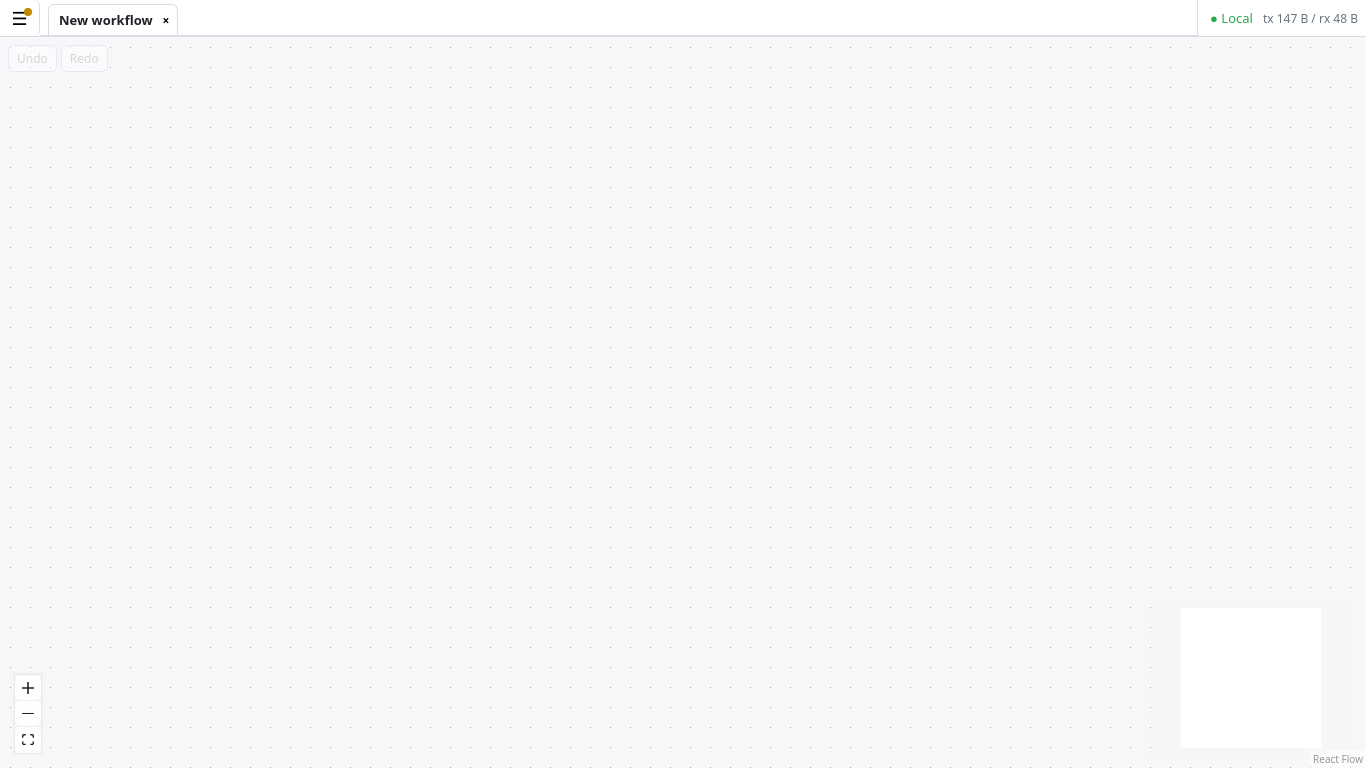
Scenario: напоминание о выгрузке (T101, US3 #2) › после «Позже» при поддержке папок показывается напоминание о выгрузке в файл
This screenshot has width=1366, height=768.
Expected: the text "Choose a working folder" is not shown
Click the button named "Menu" at (20, 18), box [0,0,40,36]
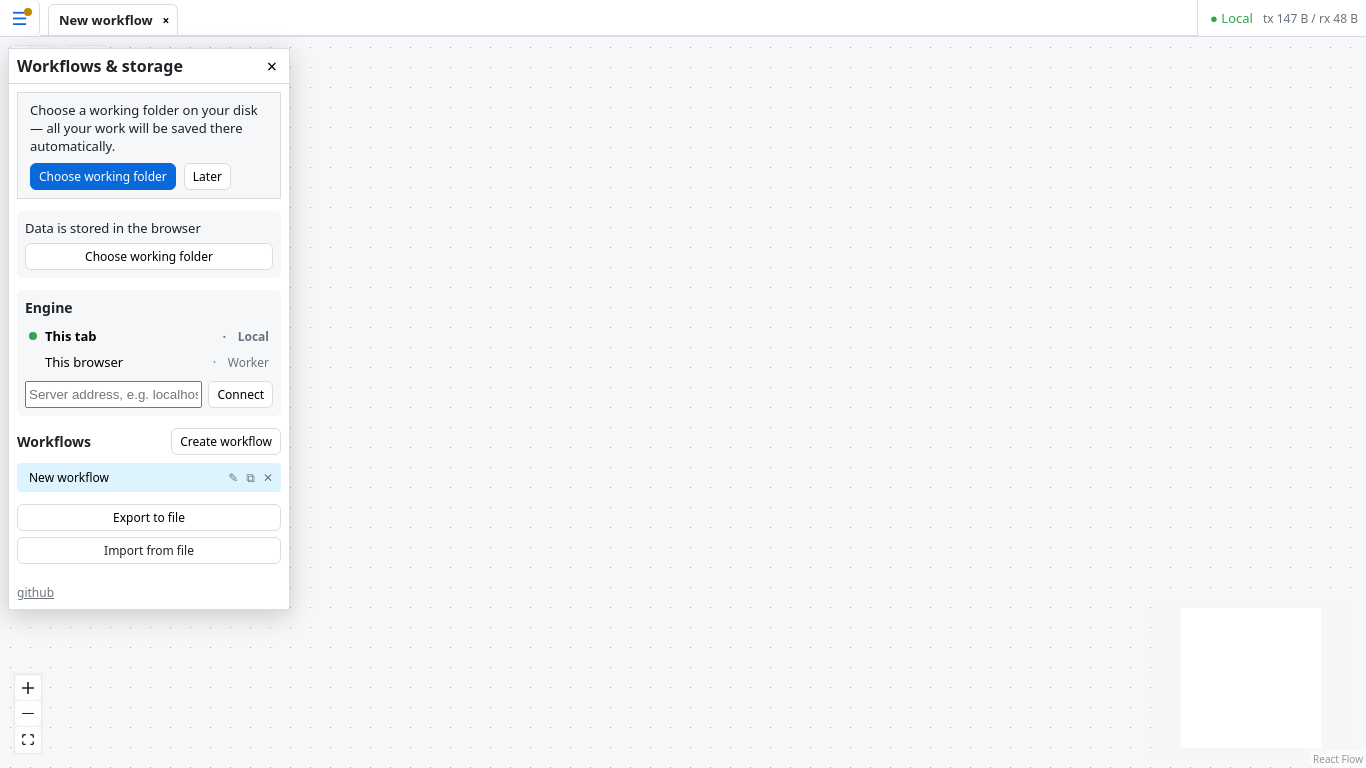
Expected: the text "Choose a working folder" is shown, [30,101,258,155]
Click the button "Later" at (207, 176), box [184,163,231,190]
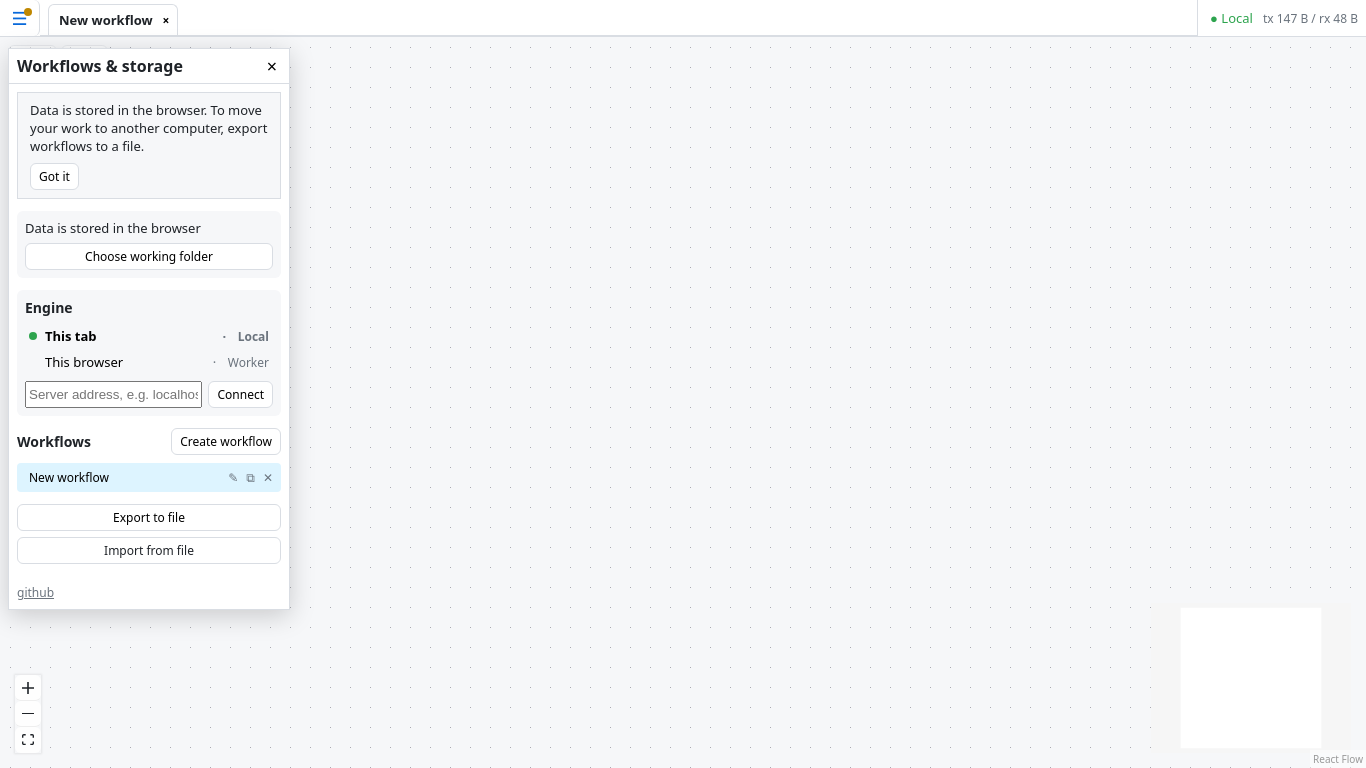
Expected: the text "export workflows to a file" is shown, [30,101,267,155]
Click the button named "Menu" at (20, 18), box [0,0,40,36]
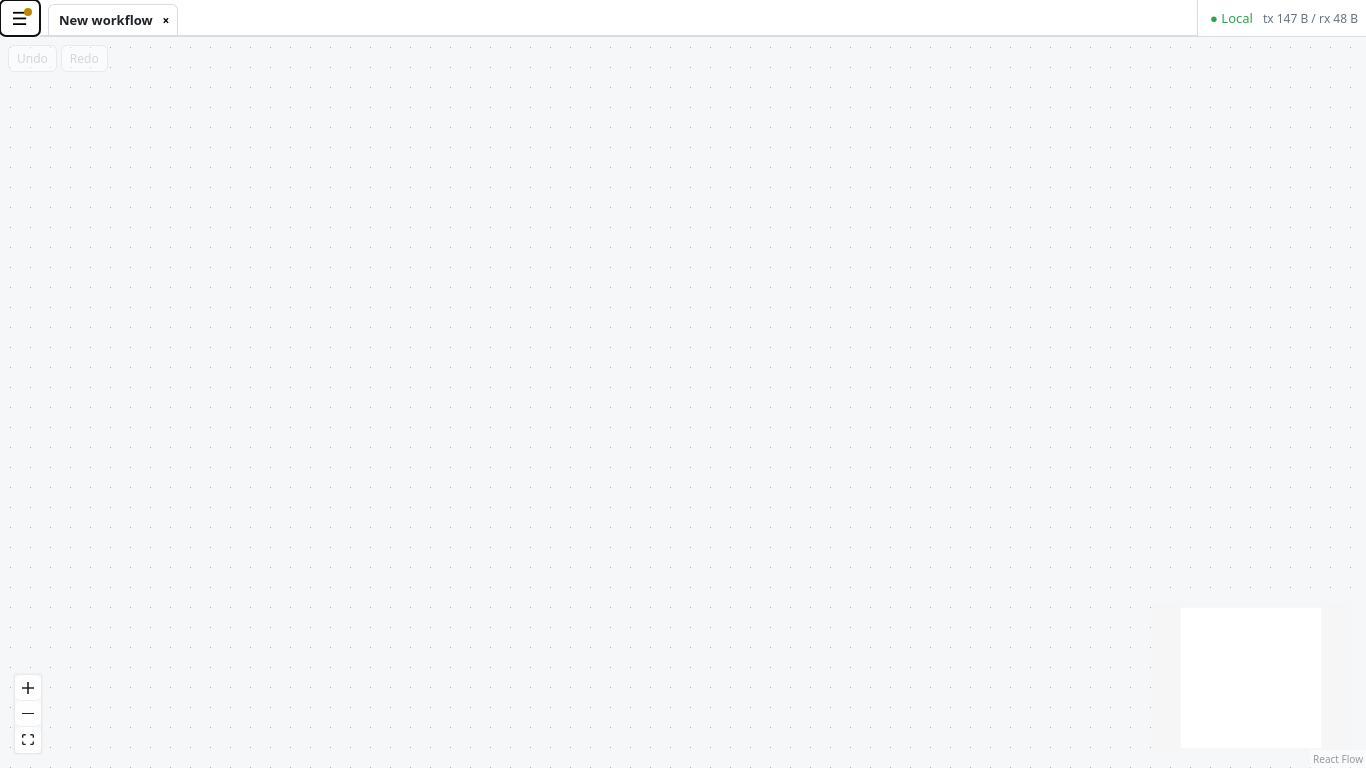
Click the button named "Menu" at (20, 18), box [0,0,40,36]
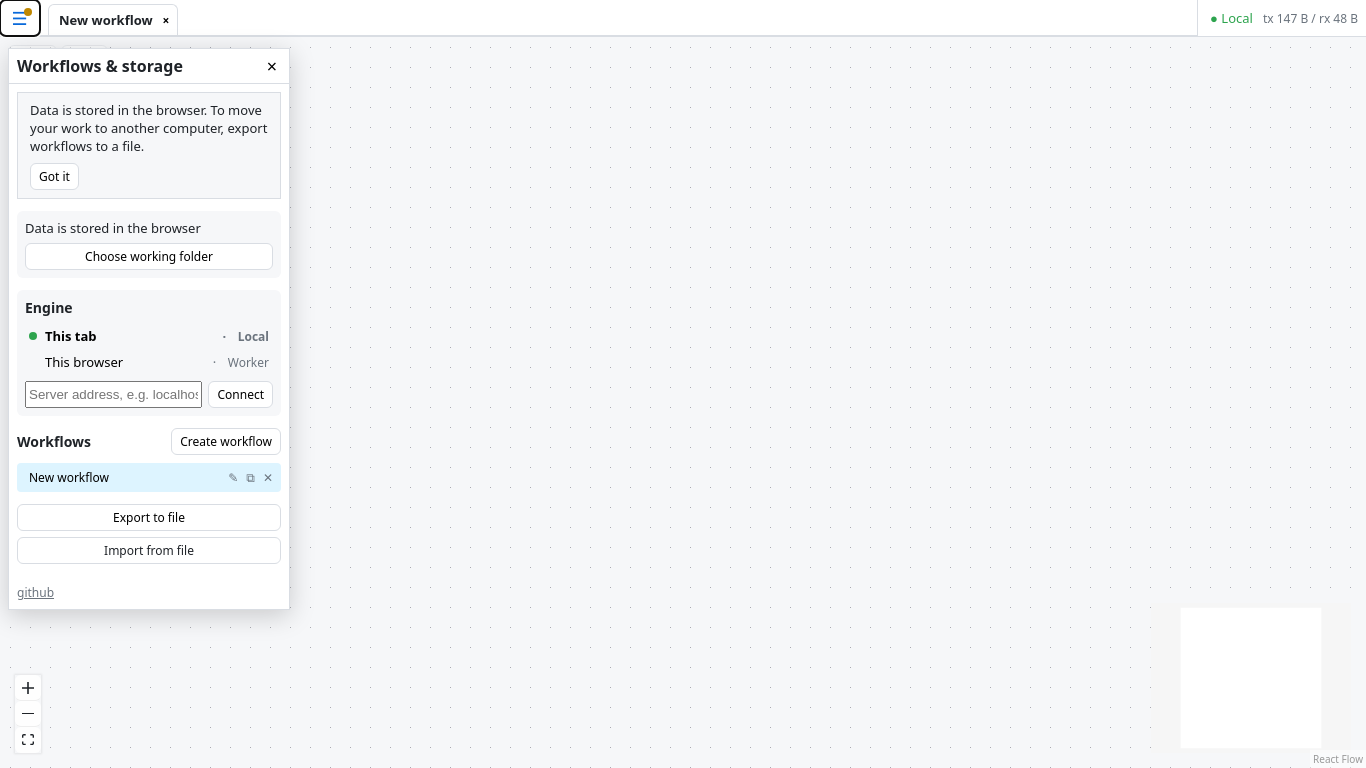
Expected: the text "export workflows to a file" is shown, [30,101,267,155]
Click the button "Got it" at (54, 176), box [30,163,79,190]
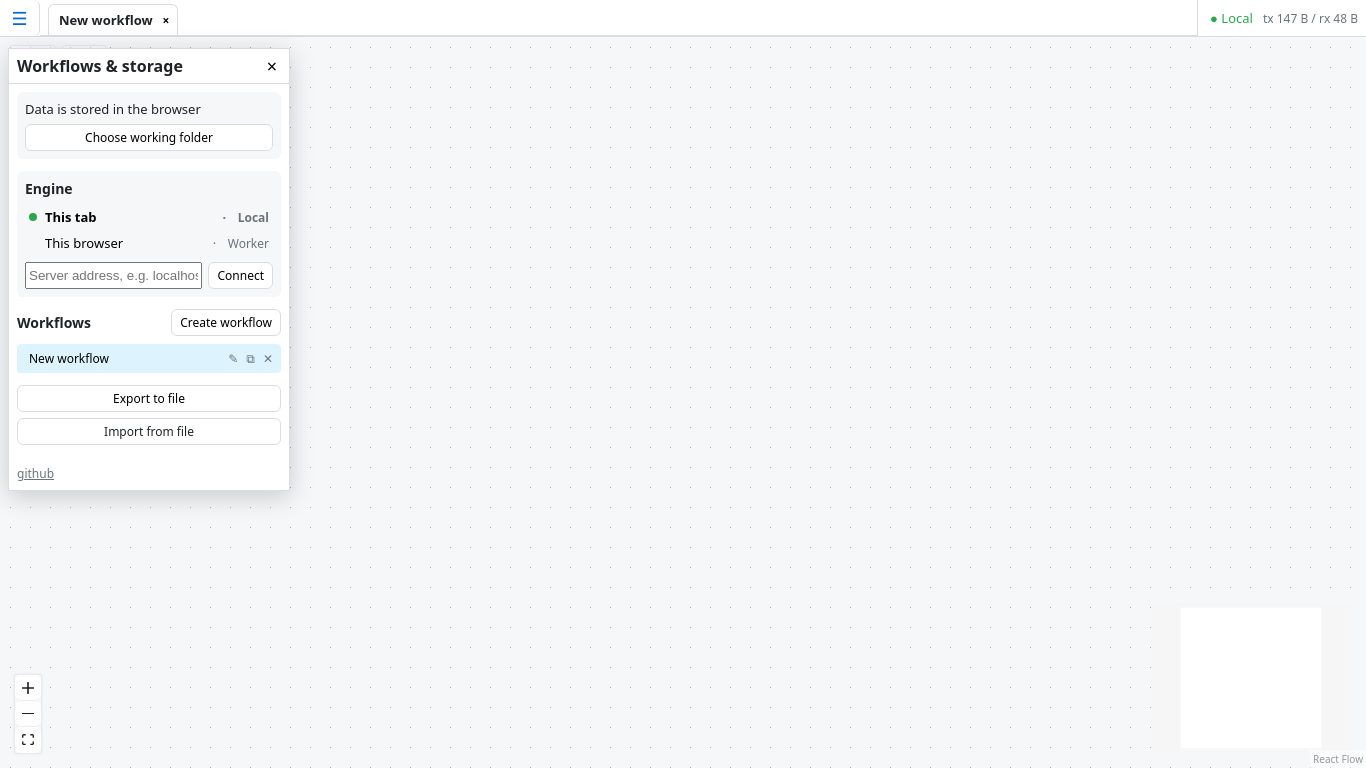
Expected: the text "export workflows to a file" is gone
